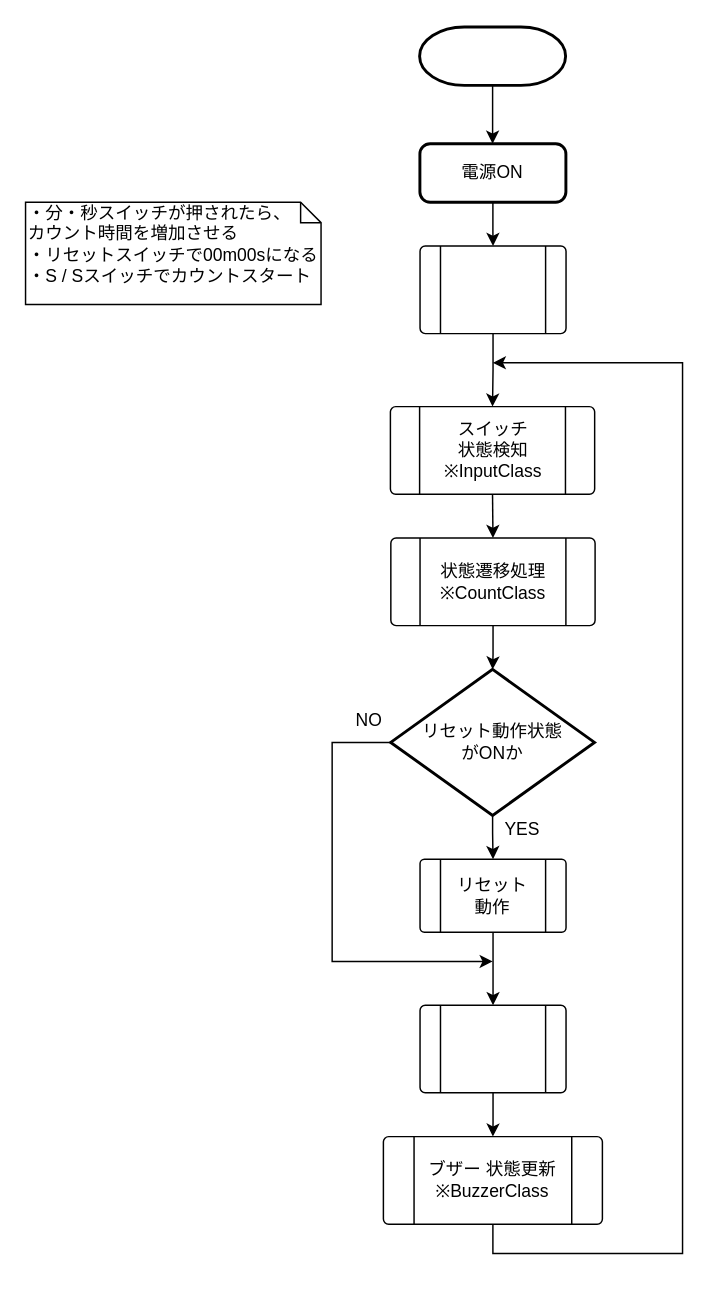
Image size: 720x1291. Some labels were removed from this diagram. Each missing label, with the centre of its shape:
"LCD更新 ※LCDClass" goes at (x=492, y=1048).
"START" goes at (x=491, y=55).
"初期設定" goes at (x=492, y=289).
